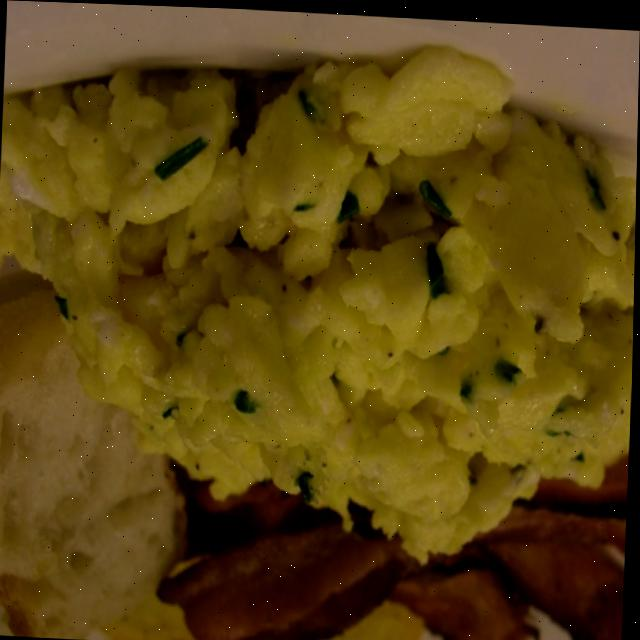鸡蛋料理: (0, 17, 640, 563)
